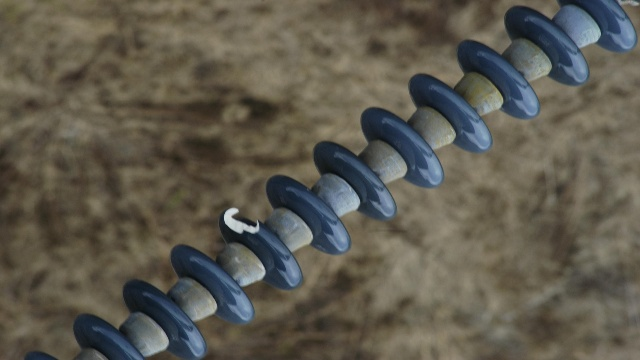broken_local: (218, 204, 263, 235)
insulator_unspecified: (22, 0, 637, 359)
